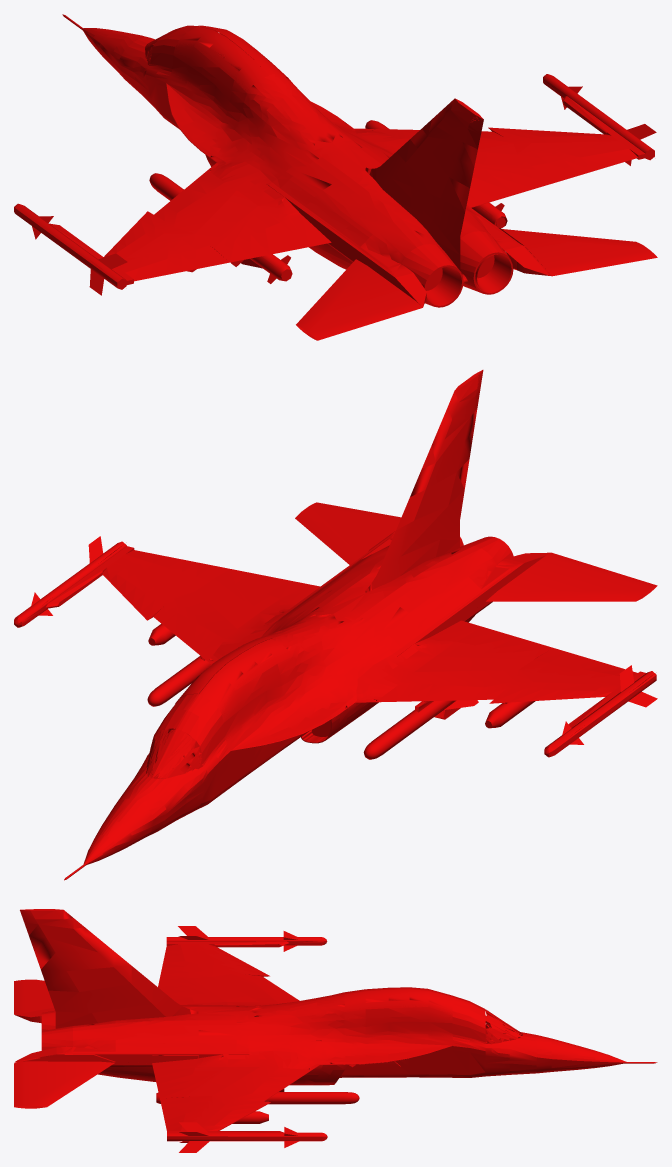
The model's file is red-jj-10.glb.
The picture shows the model from 3 angles, top to bottom: view 1: azimuth 30°, elevation 25°; view 2: azimuth 150°, elevation 25°; view 3: azimuth 270°, elevation 25°; orthographic projection. The views are drawn at different scales.
Visible parts, largest first — view 1: node_ID119_mesh0, node_ID119_mesh0.001, node_ID22_mesh0, node_ID150_mesh0.001, node_ID414_mesh0, node_ID150_mesh0, node_ID878_mesh0, node_ID360_mesh0, node_ID526_mesh0, node_ID526_mesh0.001; view 2: node_ID119_mesh0, node_ID119_mesh0.001, node_ID22_mesh0, node_ID414_mesh0, node_ID150_mesh0.001, node_ID150_mesh0, node_ID927_mesh0, node_ID526_mesh0, node_ID424_mesh0, node_ID526_mesh0.001; view 3: node_ID119_mesh0.001, node_ID22_mesh0, node_ID119_mesh0, node_ID927_mesh0, node_ID150_mesh0, node_ID526_mesh0.001, node_ID150_mesh0.001, node_ID937_mesh0, node_ID414_mesh0.
Part boxes in pixels (x1,y1,x2,y2): node_ID119_mesh0: (14, 26, 463, 307); node_ID119_mesh0.001: (198, 25, 654, 294); node_ID22_mesh0: (365, 98, 482, 254); node_ID150_mesh0.001: (296, 259, 422, 340); node_ID414_mesh0: (82, 26, 196, 127); node_ID150_mesh0: (500, 228, 657, 276); node_ID878_mesh0: (475, 254, 513, 293); node_ID360_mesh0: (425, 267, 461, 305); node_ID526_mesh0: (149, 173, 291, 281); node_ID526_mesh0.001: (365, 120, 507, 228); node_ID119_mesh0: (199, 536, 656, 794); node_ID119_mesh0.001: (14, 532, 463, 771); node_ID22_mesh0: (365, 370, 482, 592); node_ID414_mesh0: (84, 694, 230, 865); node_ID150_mesh0.001: (485, 553, 657, 601); node_ID150_mesh0: (295, 502, 401, 564); node_ID927_mesh0: (83, 694, 198, 864); node_ID526_mesh0: (363, 700, 455, 759); node_ID424_mesh0: (152, 729, 203, 778); node_ID526_mesh0.001: (147, 655, 210, 706); node_ID119_mesh0.001: (15, 989, 452, 1141); node_ID22_mesh0: (20, 909, 198, 1026); node_ID119_mesh0: (14, 937, 452, 1066); node_ID927_mesh0: (452, 997, 626, 1077); node_ID150_mesh0: (14, 1055, 114, 1108); node_ID526_mesh0.001: (156, 1092, 359, 1104); node_ID150_mesh0.001: (14, 979, 53, 1014); node_ID937_mesh0: (485, 1011, 522, 1044); node_ID414_mesh0: (452, 995, 622, 1060).
Bounding box in the file's own units: 13 × 4.77 × 17.19.
